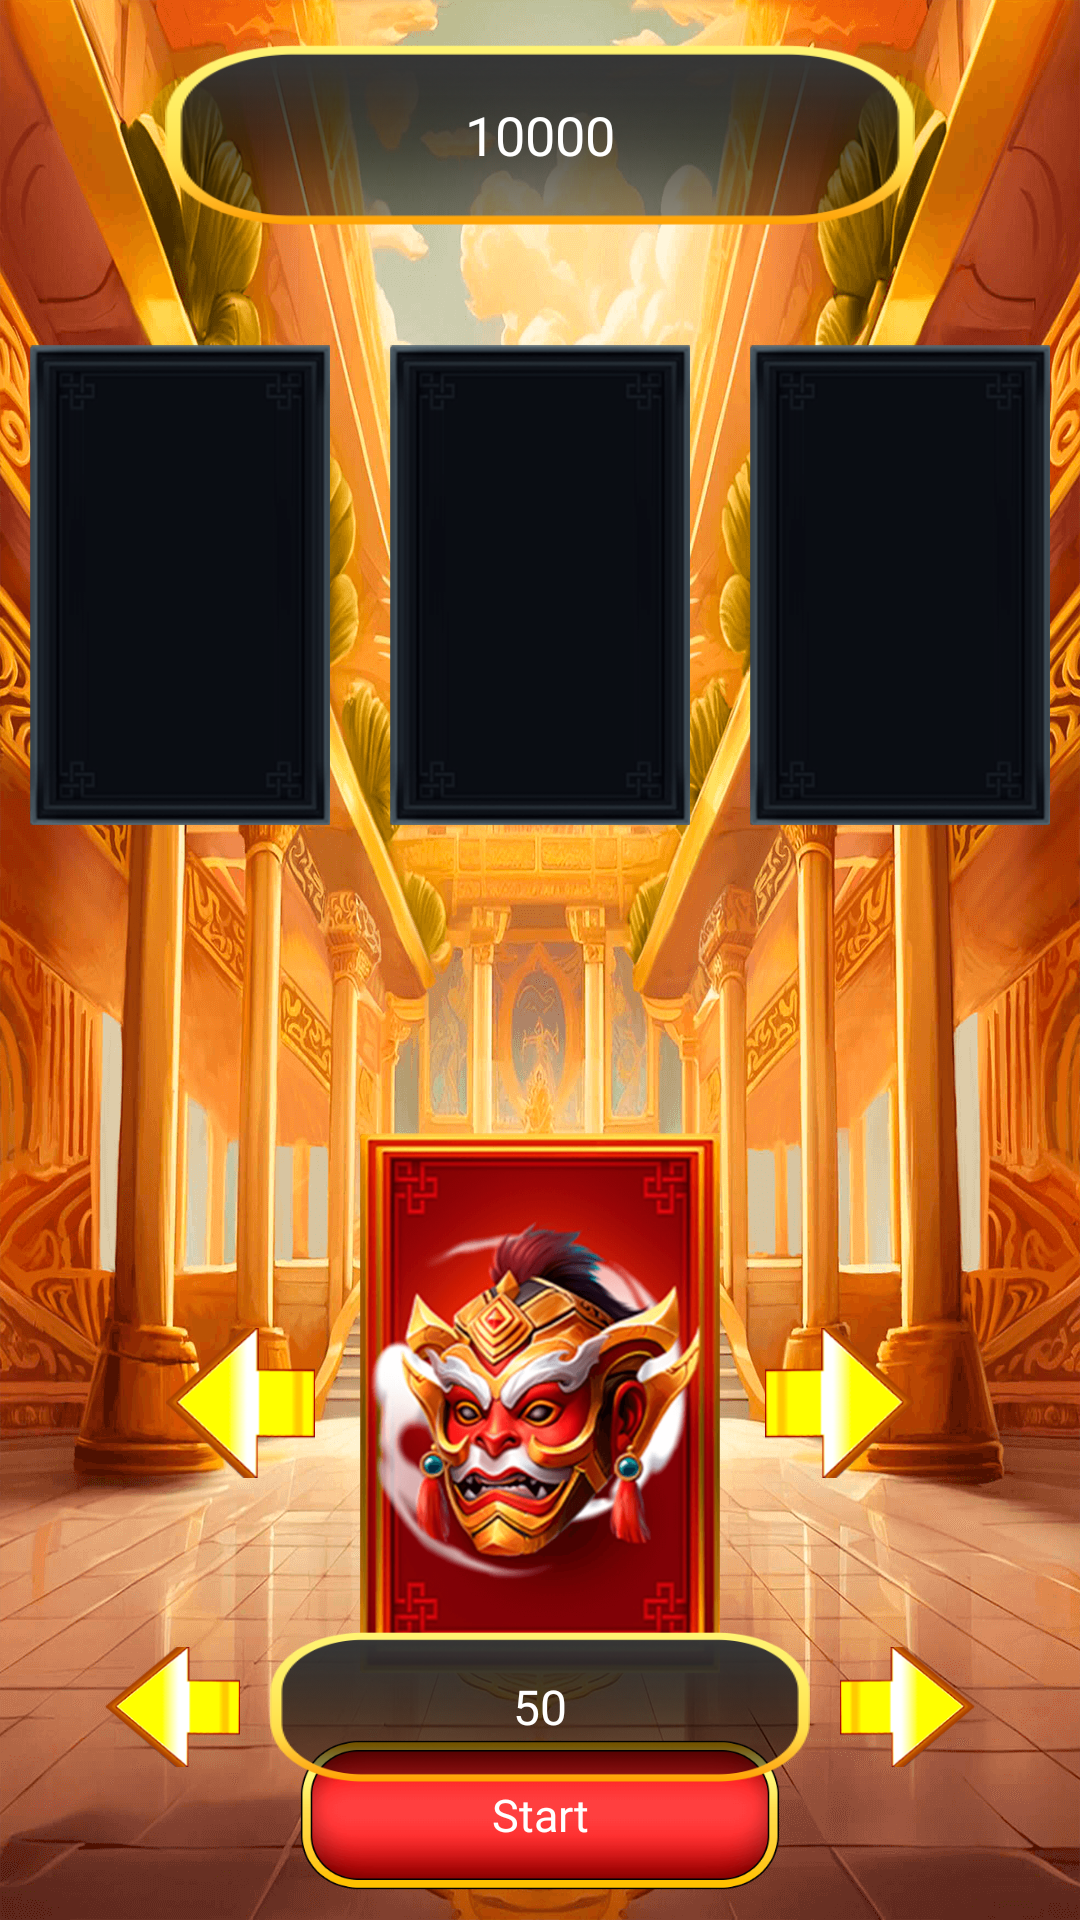

Screen size 1080×1920. Icon name, then its center in pixels as [x,y]:
left arrow: [240,1403], [172,1707]
right arrow: [840,1403], [907,1707]
